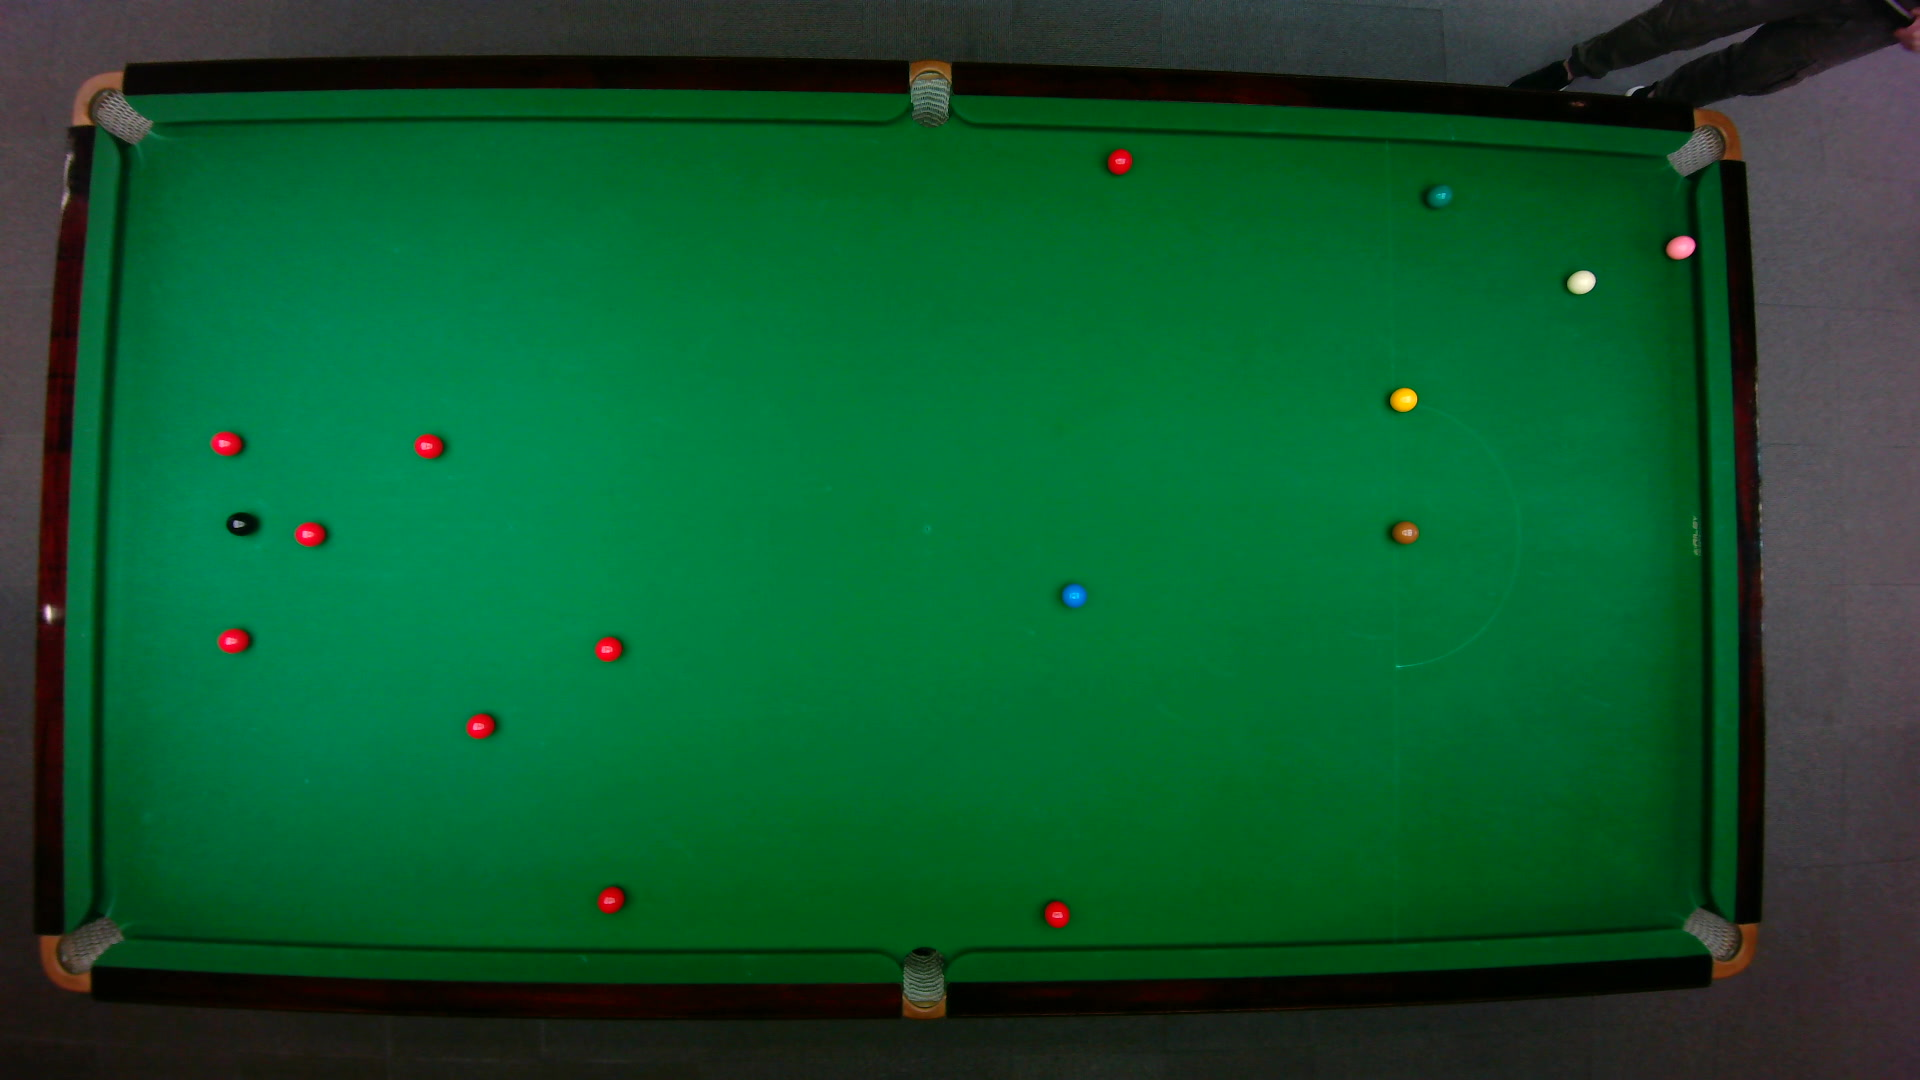bag: (37, 913, 125, 992), (69, 69, 152, 145), (1677, 905, 1756, 978), (1663, 109, 1741, 177), (899, 944, 944, 1021), (909, 57, 949, 128)
black: (222, 510, 256, 535)
blue: (1059, 582, 1087, 608)
brown: (1390, 520, 1419, 545)
green: (1424, 182, 1453, 208)
pink: (1663, 232, 1697, 260)
red: (214, 625, 251, 653), (208, 429, 244, 456), (291, 520, 326, 547), (595, 884, 625, 914), (463, 711, 496, 738), (411, 431, 443, 459), (592, 634, 622, 662), (1042, 899, 1069, 928), (1105, 146, 1133, 175)
white: (1564, 266, 1596, 294)
yellow: (1389, 385, 1419, 411)
zone: (1389, 401, 1520, 667)
